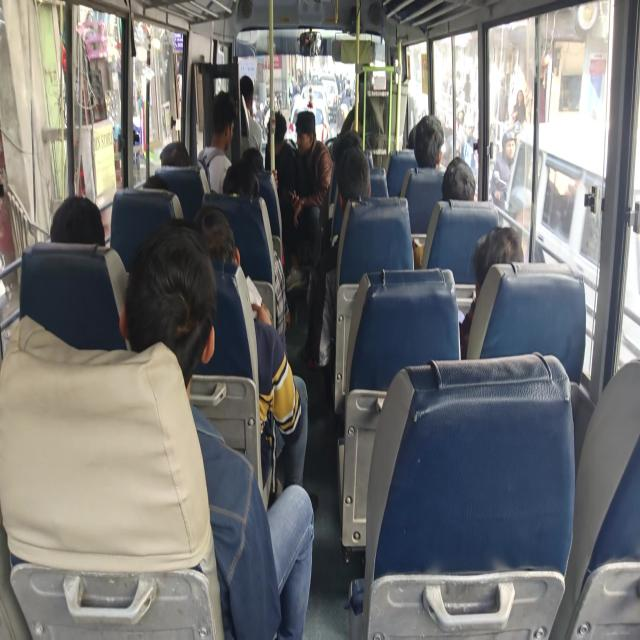person: (138, 248, 212, 360), (198, 200, 262, 275), (46, 192, 108, 248), (474, 220, 524, 272), (331, 149, 370, 206), (444, 159, 488, 205), (222, 153, 268, 196), (412, 109, 441, 163), (159, 141, 194, 183), (209, 89, 234, 142), (140, 163, 170, 199), (266, 108, 290, 150), (334, 124, 364, 156), (238, 70, 260, 112), (292, 105, 312, 150)
